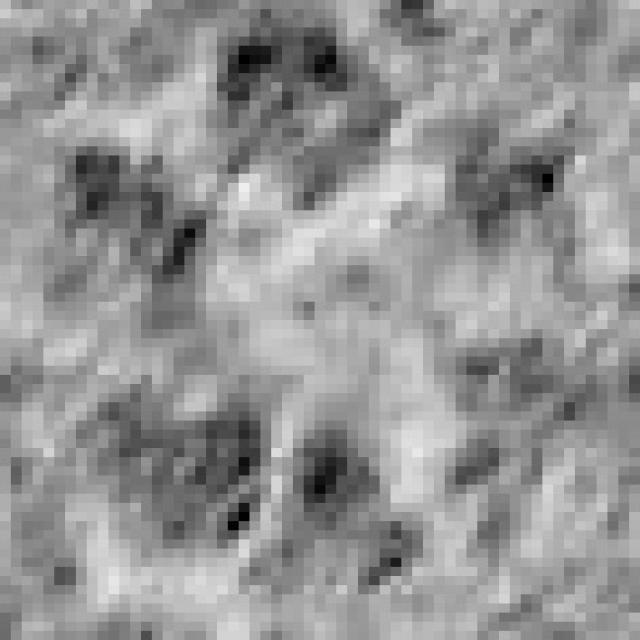inner: (202, 196, 498, 424)
lobe: (74, 384, 270, 563), (222, 10, 399, 207), (240, 427, 428, 596), (412, 106, 584, 254), (64, 143, 210, 284), (456, 332, 632, 447)
outer: (22, 0, 640, 640)
